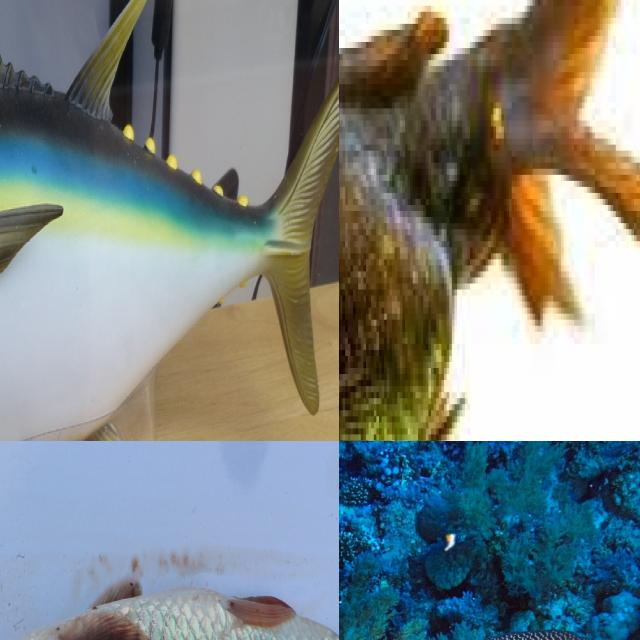fish: (0, 0, 339, 441), (339, 0, 640, 404), (339, 441, 593, 640), (0, 530, 339, 640)
